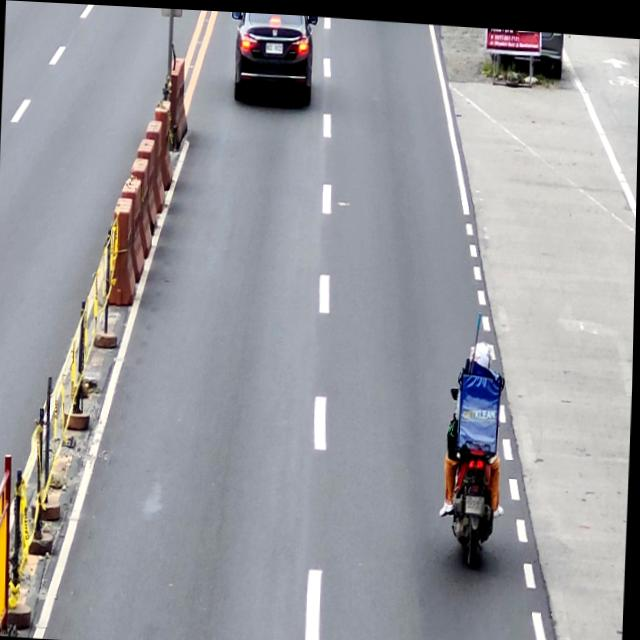Car: (226, 9, 317, 108)
License-Plate: (465, 488, 490, 509), (264, 37, 284, 51)
Motorcycle: (445, 381, 503, 565)
